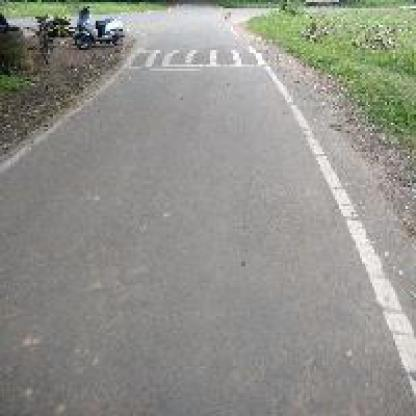Speed Bump: (131, 46, 262, 70)
